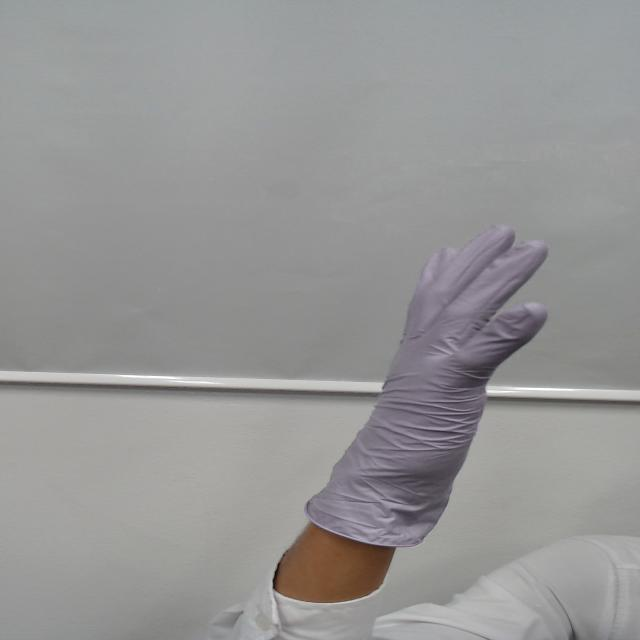glove: (318, 219, 574, 459)
